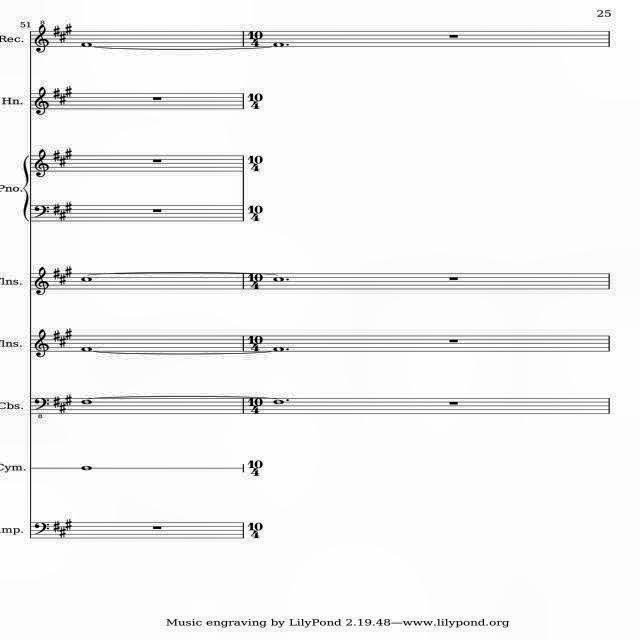Bass-clef: (34, 266, 50, 296), (32, 86, 49, 114), (34, 149, 50, 177), (34, 330, 50, 358), (34, 24, 48, 52)
Diez: (52, 26, 60, 38), (64, 148, 72, 160), (52, 204, 60, 216), (64, 202, 72, 214), (64, 266, 72, 278), (65, 328, 73, 340), (52, 88, 59, 100), (59, 94, 66, 106), (52, 150, 59, 162), (59, 156, 66, 168), (59, 210, 66, 222), (52, 268, 59, 280), (59, 274, 66, 286), (59, 402, 66, 414), (59, 526, 66, 538), (52, 397, 59, 408), (59, 32, 65, 44), (66, 23, 72, 35), (54, 330, 60, 342), (66, 394, 72, 406), (53, 520, 59, 532), (66, 518, 72, 530), (59, 337, 66, 347), (66, 85, 72, 96)
Full-note: (272, 42, 284, 48), (80, 276, 92, 282), (272, 276, 284, 282), (80, 42, 92, 46), (80, 347, 92, 351), (272, 348, 284, 352), (80, 400, 92, 404), (80, 466, 92, 470), (274, 400, 284, 404)
